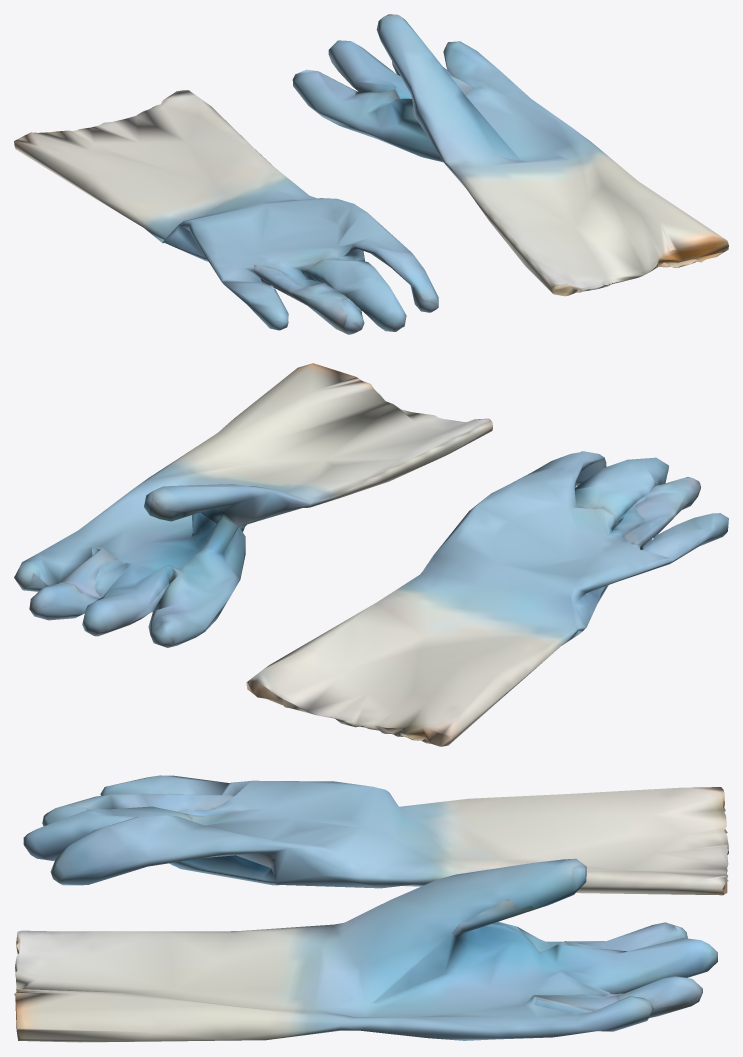
The model's file is Clorox_Premium_Choice_Gloves_SM_1_pair-medium.glb.
3 renders of one model, top to bottom at view 1: azimuth 30°, elevation 25°; view 2: azimuth 150°, elevation 25°; view 3: azimuth 270°, elevation 25°, orthographic. The views are drawn at different scales.
Visible parts, largest first — view 1: Clorox_Premium_Choice_Gloves_SM_1_pair; view 2: Clorox_Premium_Choice_Gloves_SM_1_pair; view 3: Clorox_Premium_Choice_Gloves_SM_1_pair.
Boxes of the visible parts, x1,y1,x2,y2 form: Clorox_Premium_Choice_Gloves_SM_1_pair: (14, 14, 728, 334); Clorox_Premium_Choice_Gloves_SM_1_pair: (14, 363, 728, 746); Clorox_Premium_Choice_Gloves_SM_1_pair: (14, 775, 728, 1042).
Bounding box in the file's own units: 0.2741 × 0.0637 × 0.3258.
1 material, 1 textured.
